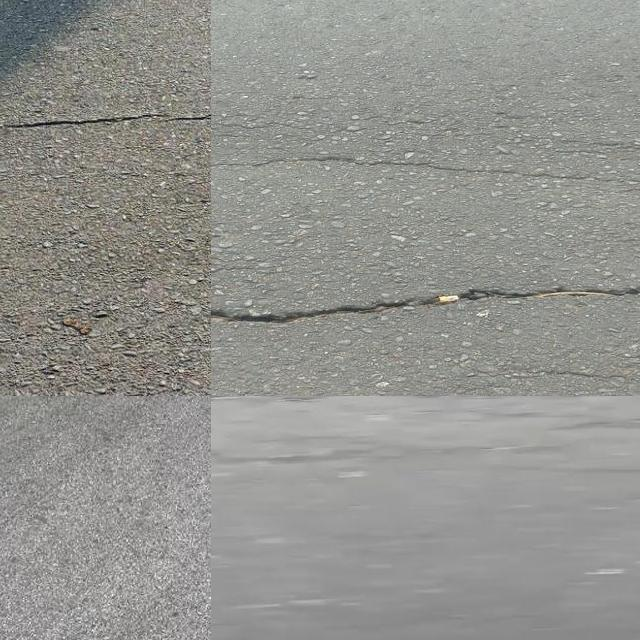Melintang: (211, 274, 640, 350), (0, 99, 211, 154)
